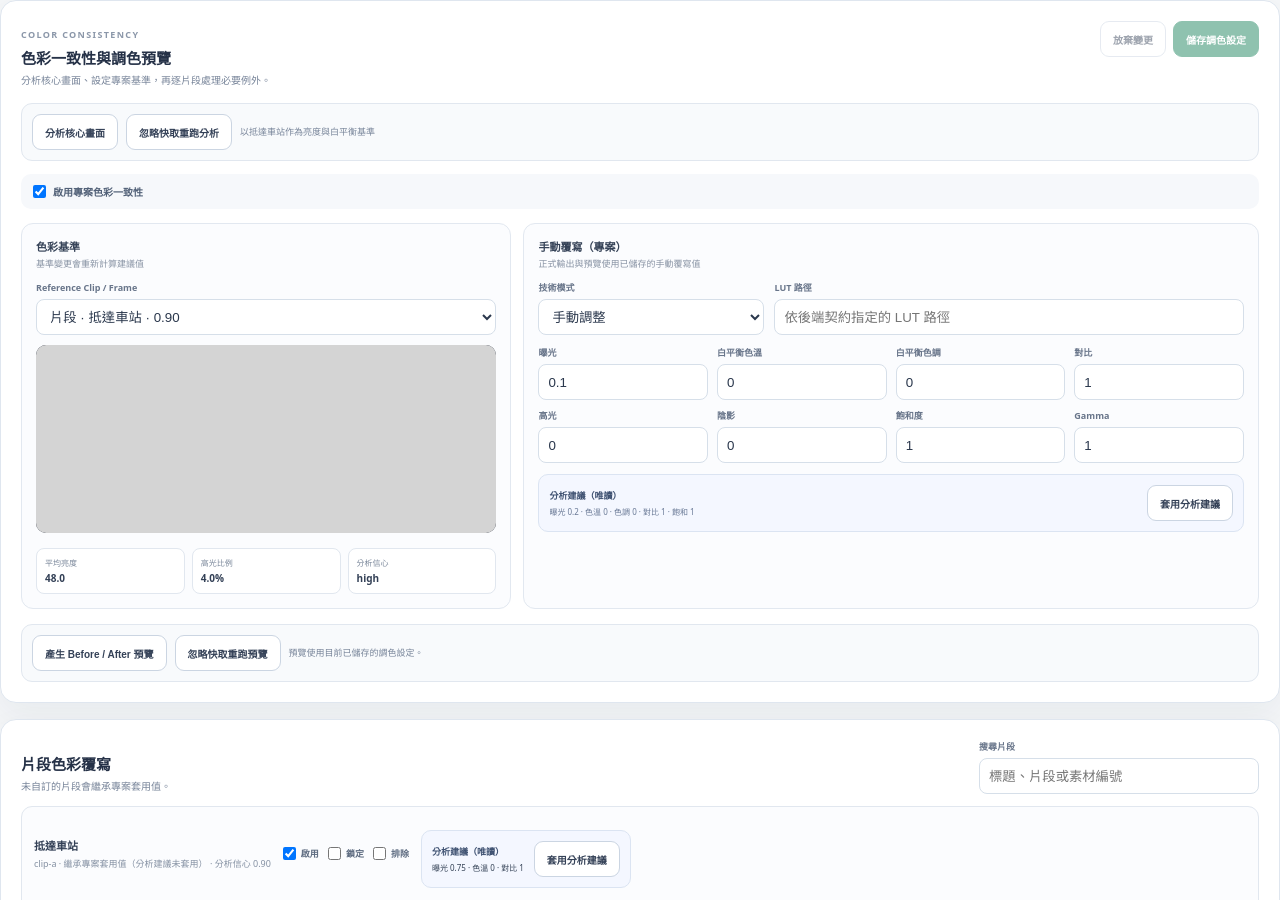
Test: ColorConsistencyWorkspace › shows analysis-only segments as project sourced until the user applies a suggestion
Click the button "套用分析建議" in the row of "0.75" at point(577, 859), box [534,841,620,877]
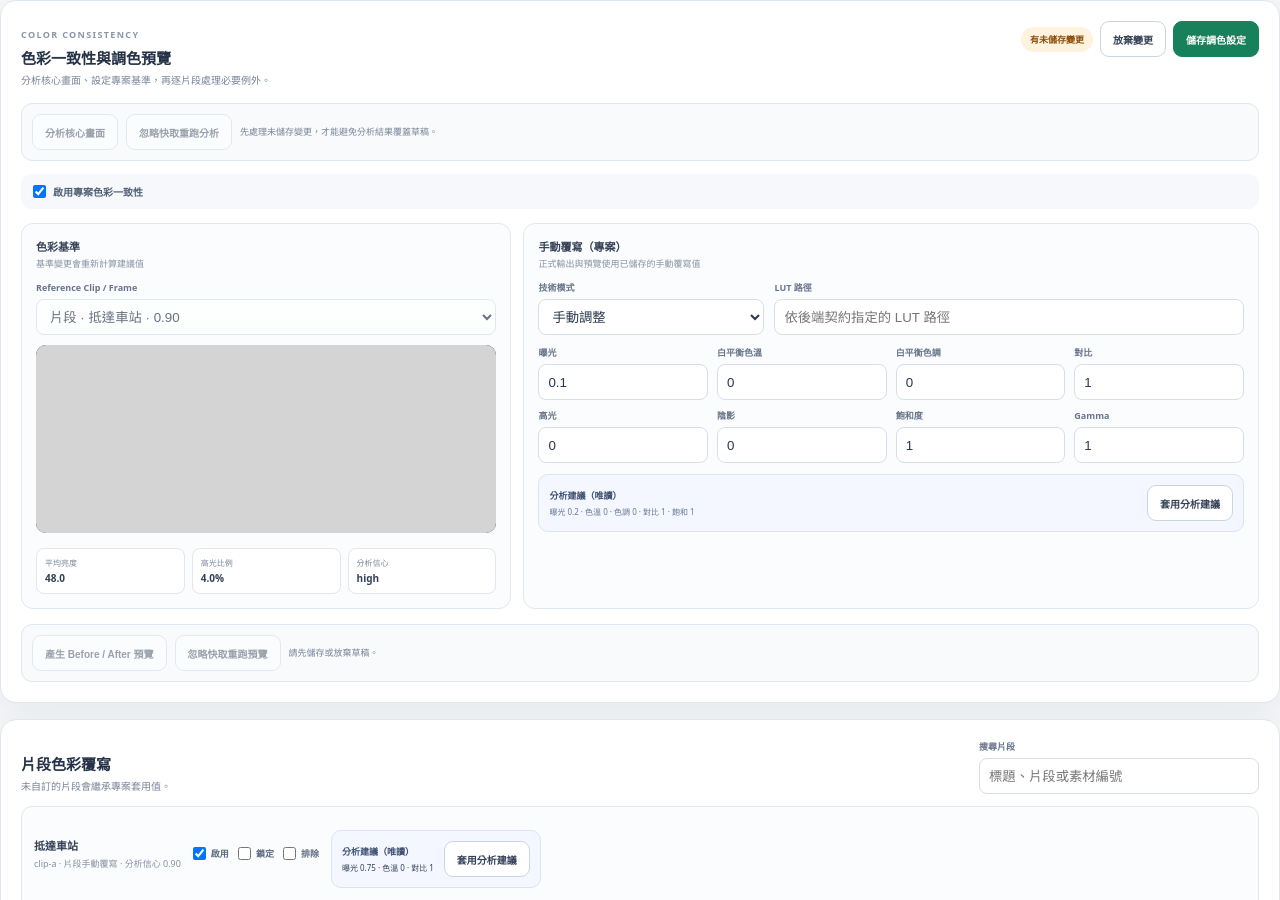
Expected: the text "clip-a · 片段手動覆寫 · 分析信心 0.90" is shown, [34,857,181,870]
